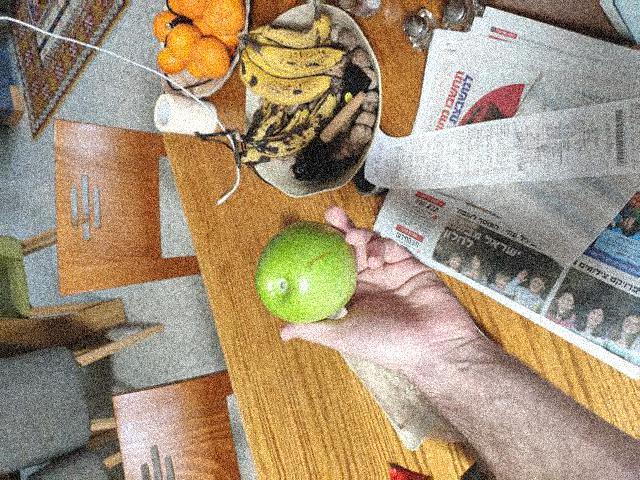apple: (245, 218, 362, 325)
